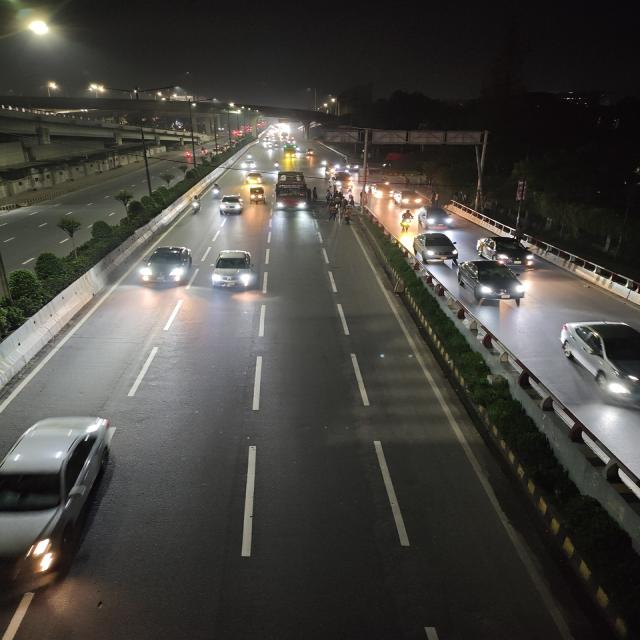bus: (276, 170, 312, 214)
car: (0, 412, 117, 596), (551, 315, 640, 413), (456, 258, 531, 311), (131, 242, 196, 293), (207, 249, 261, 291), (473, 233, 540, 264), (407, 231, 462, 262), (417, 204, 459, 228), (219, 192, 243, 220), (392, 187, 421, 206), (328, 175, 353, 189), (245, 170, 265, 186), (348, 159, 368, 173), (238, 158, 260, 170)
cng: (244, 186, 270, 203)
motorcycle: (396, 207, 416, 234), (187, 194, 203, 219), (207, 179, 222, 200), (272, 160, 281, 170)
pedestrian: (328, 202, 340, 222), (310, 185, 321, 202), (322, 189, 333, 205), (344, 204, 352, 225)
